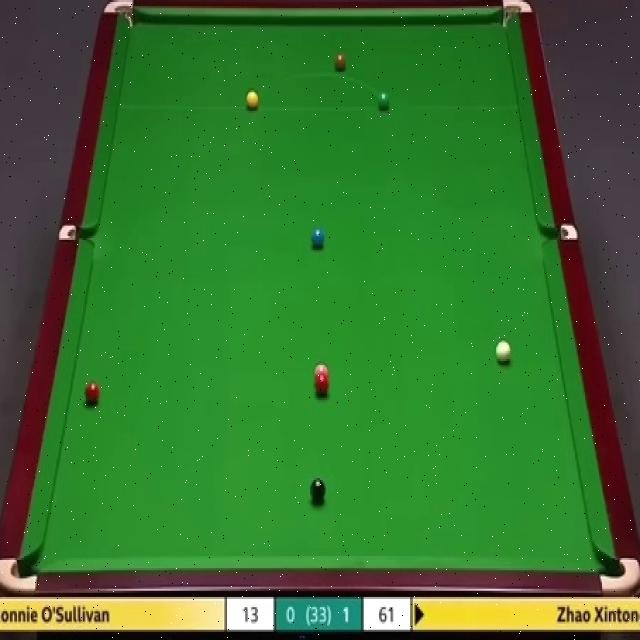black-ball: (310, 478, 326, 504)
blue-ball: (310, 226, 325, 250)
brown-ball: (334, 53, 346, 73)
green-ball: (376, 90, 390, 110)
pink-ball: (313, 363, 330, 377)
red-ball: (83, 379, 100, 407), (314, 374, 331, 396)
white-ball: (495, 338, 511, 364)
yellow-ball: (246, 90, 259, 110)
